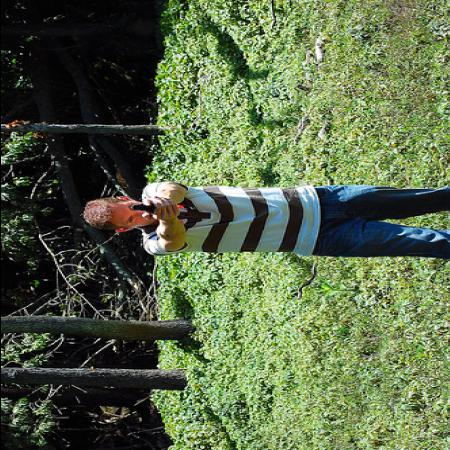Pistol: (127, 204, 154, 212)
